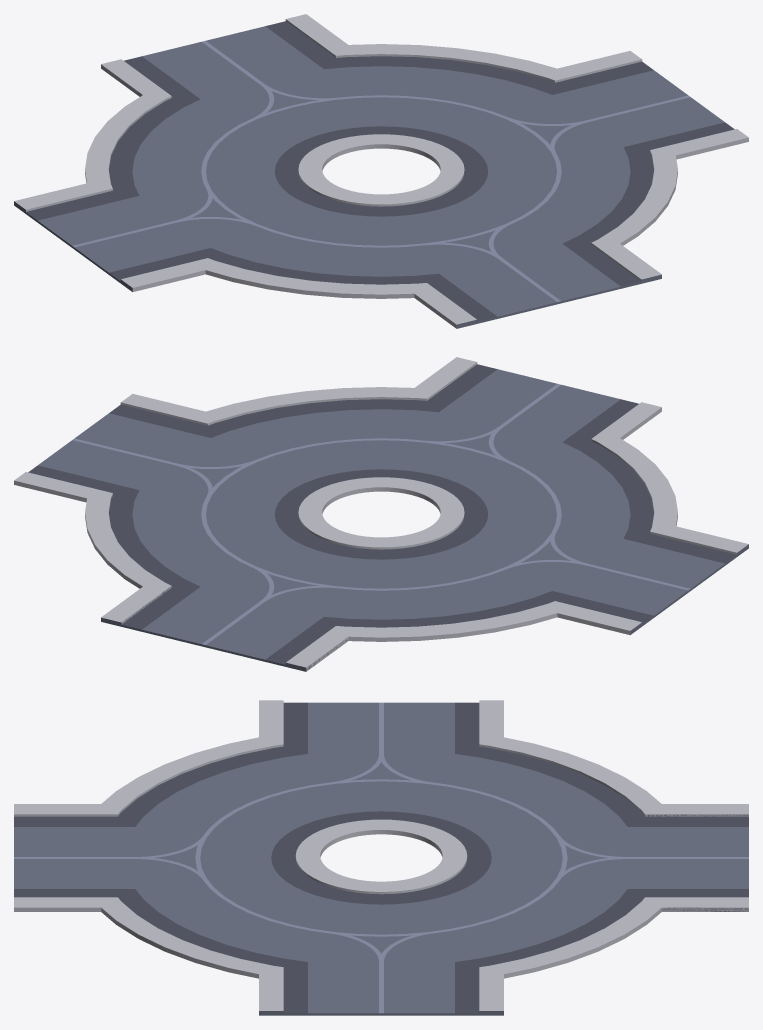
File: road_roundabout.obj
3 views of the same model, one above another, from view 1: azimuth 30°, elevation 25°; view 2: azimuth 150°, elevation 25°; view 3: azimuth 270°, elevation 25° (orthographic). The views are drawn at different scales.
Visible parts, largest first — view 1: road_roundabout; view 2: road_roundabout; view 3: road_roundabout.
Part boxes in pixels (<box>): road_roundabout: <box>14,14,748,328</box>; road_roundabout: <box>14,357,748,671</box>; road_roundabout: <box>14,700,748,1015</box>.
Size of the model in its own units: 3 by 0.02 by 3.
